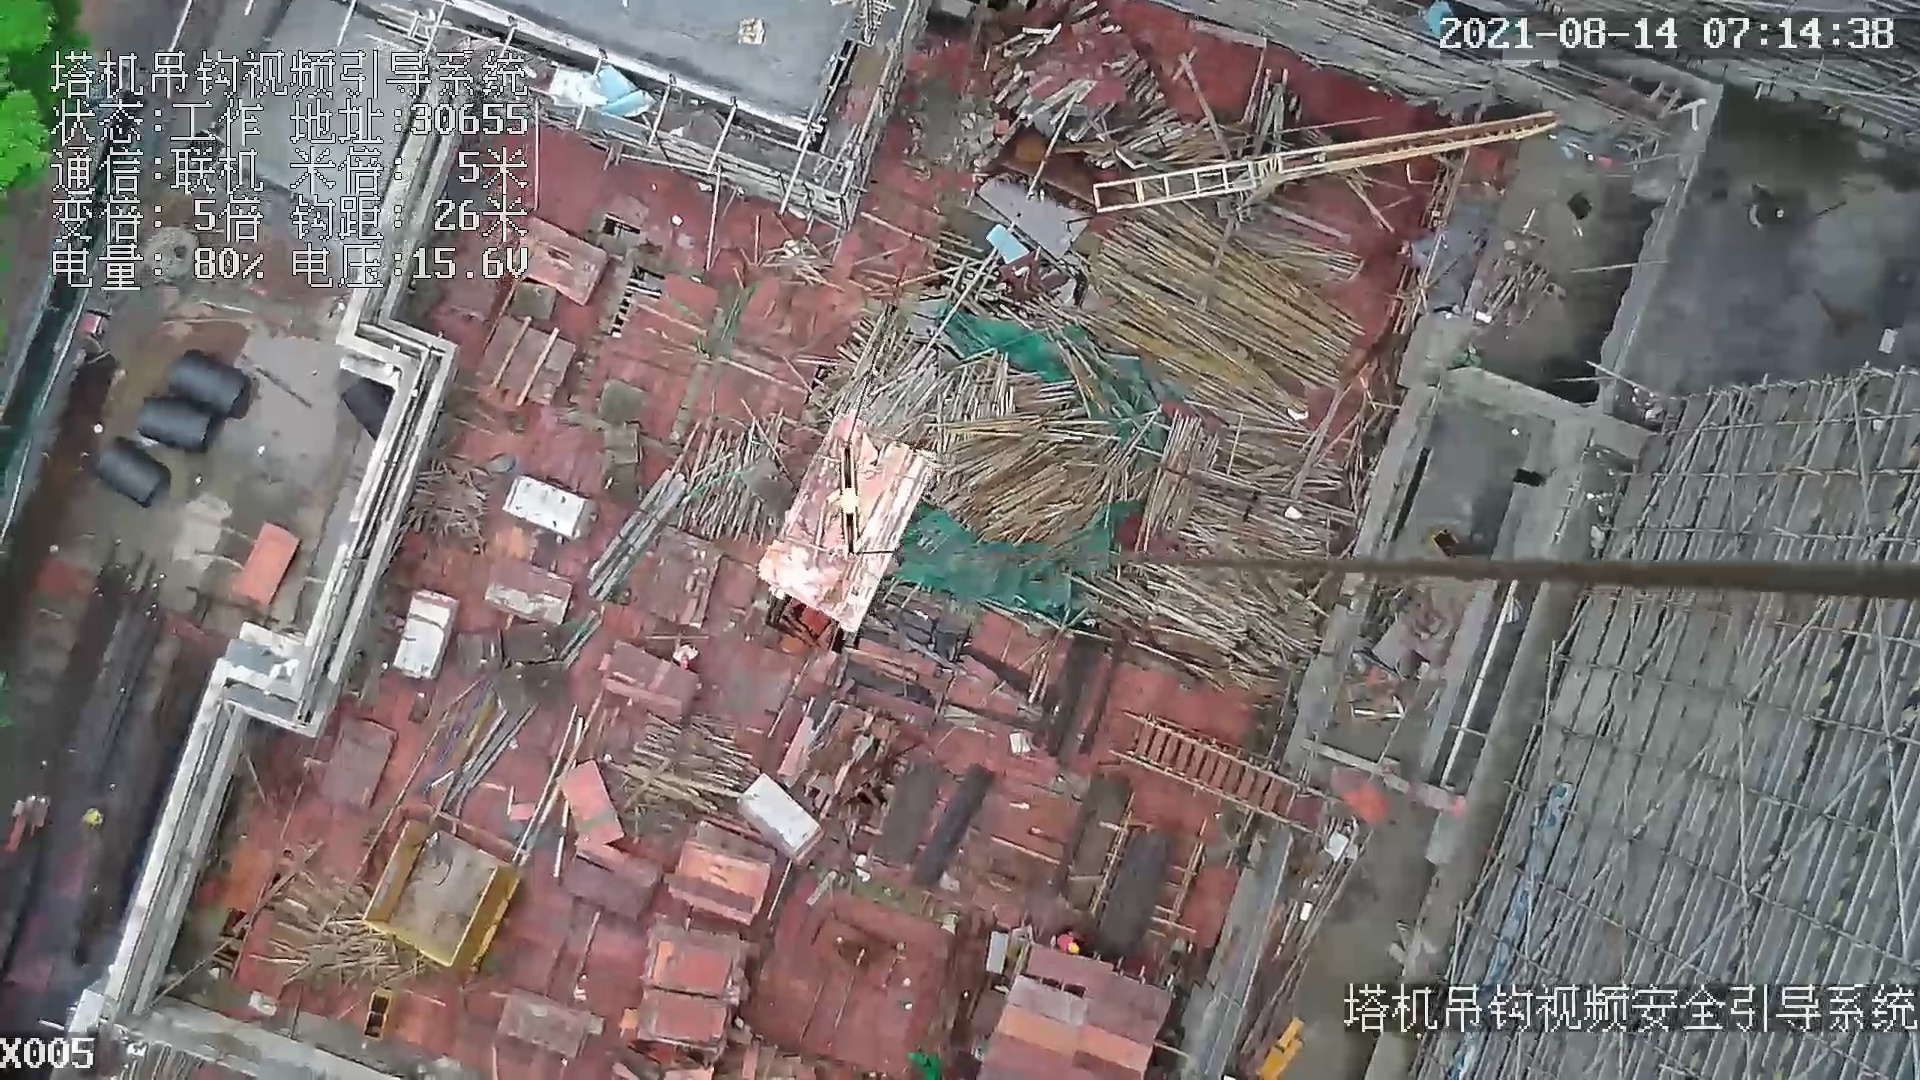hook: (825, 435, 870, 560)
